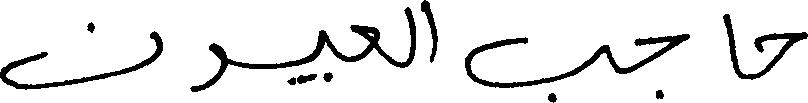X: (0, 17, 162, 94), (465, 32, 603, 102), (634, 29, 688, 102), (756, 27, 807, 82), (192, 38, 227, 96), (351, 20, 379, 66), (724, 9, 740, 82), (422, 0, 436, 67), (318, 25, 329, 86), (405, 2, 414, 71)
